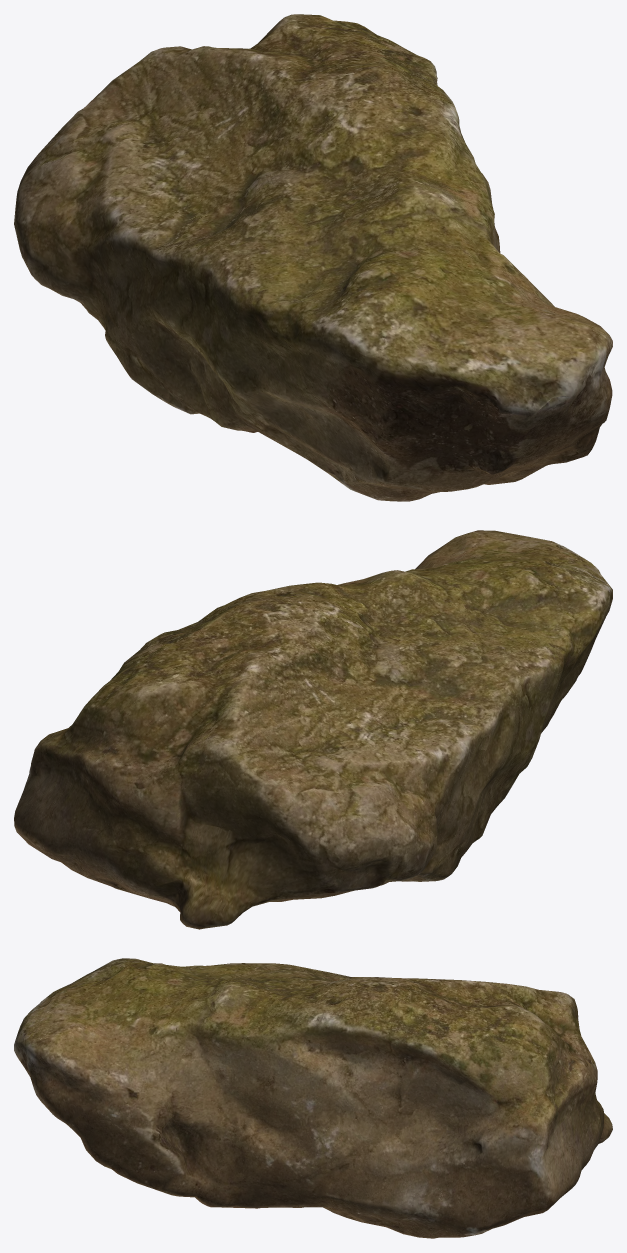
Rendered from rock_moss_01_r05.glb.
The picture shows the model from 3 angles, top to bottom: view 1: azimuth 30°, elevation 25°; view 2: azimuth 150°, elevation 25°; view 3: azimuth 270°, elevation 25°; orthographic projection. The views are drawn at different scales.
Visible parts, largest first — view 1: rock_moss_01_r05_LOD0; view 2: rock_moss_01_r05_LOD0; view 3: rock_moss_01_r05_LOD0.
Boxes of the visible parts, x1=… form: rock_moss_01_r05_LOD0: x1=14, y1=14, x2=612, y2=501; rock_moss_01_r05_LOD0: x1=14, y1=530, x2=612, y2=929; rock_moss_01_r05_LOD0: x1=14, y1=958, x2=612, y2=1238.
Size of what is drawn, in the model's own units: 1.82 by 1.2 by 3.
1 material, 1 textured.
